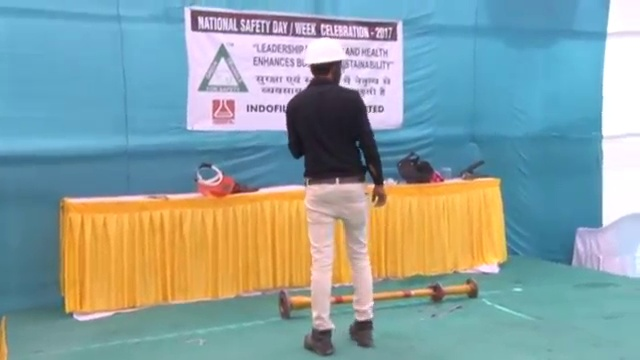helmet: (302, 37, 349, 67)
helmet_on: (301, 37, 352, 86)
person: (284, 37, 387, 356)
